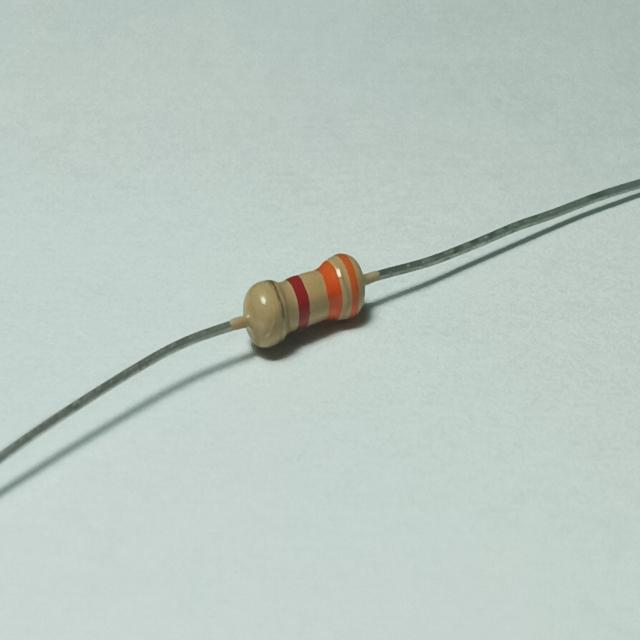3.3k ohms: (232, 239, 374, 364)
